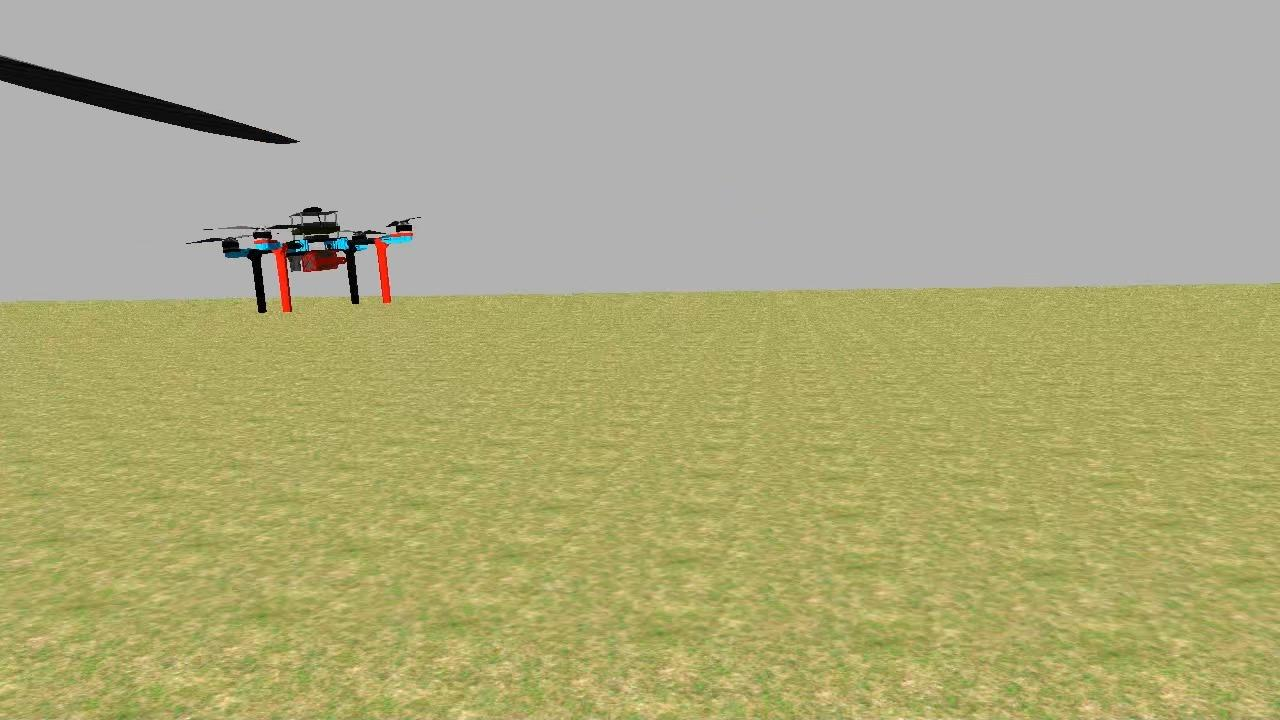UAV: (207, 195, 424, 326)
